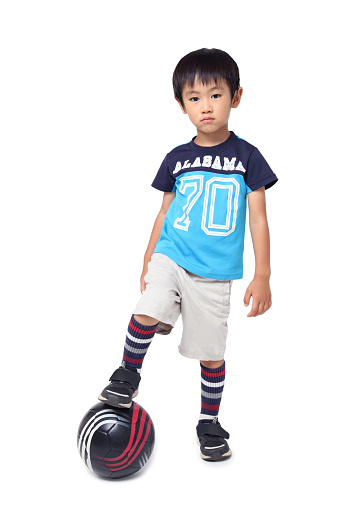em pe: (81, 50, 299, 468)
